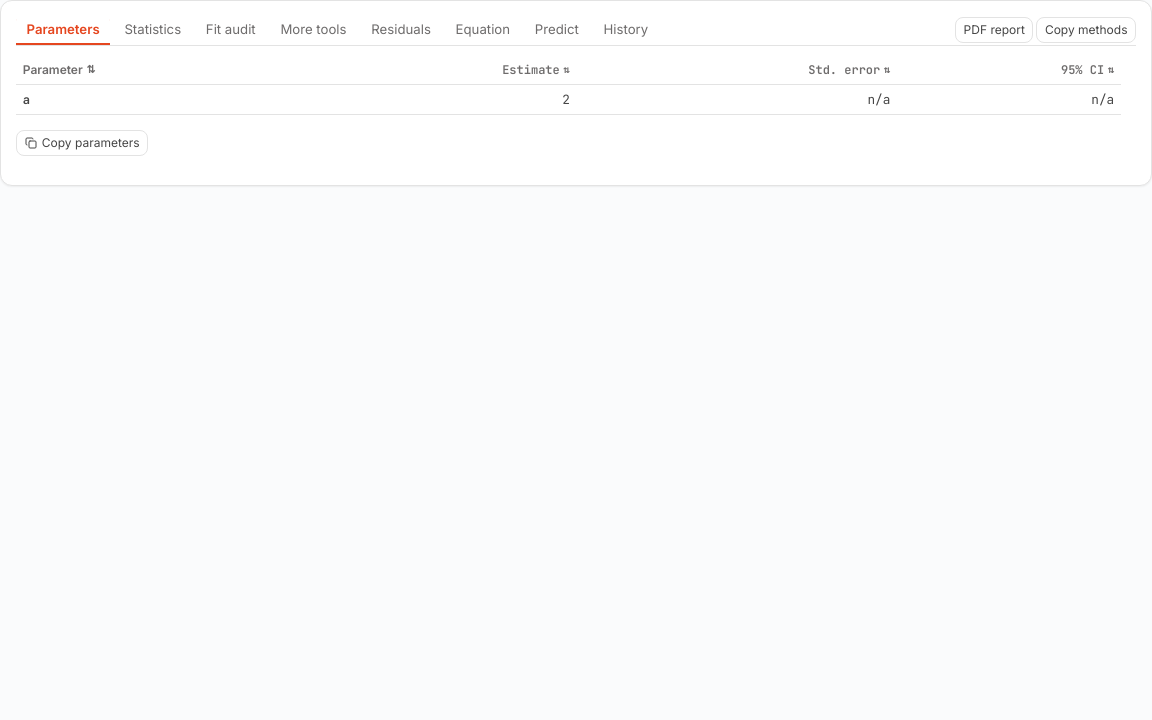
Copy methods › shows the document the same way when the browser has no clipboard at all
The image size is (1152, 720).
Click the button "Copy methods".
click(1086, 30)  # box [1036,17,1136,43]
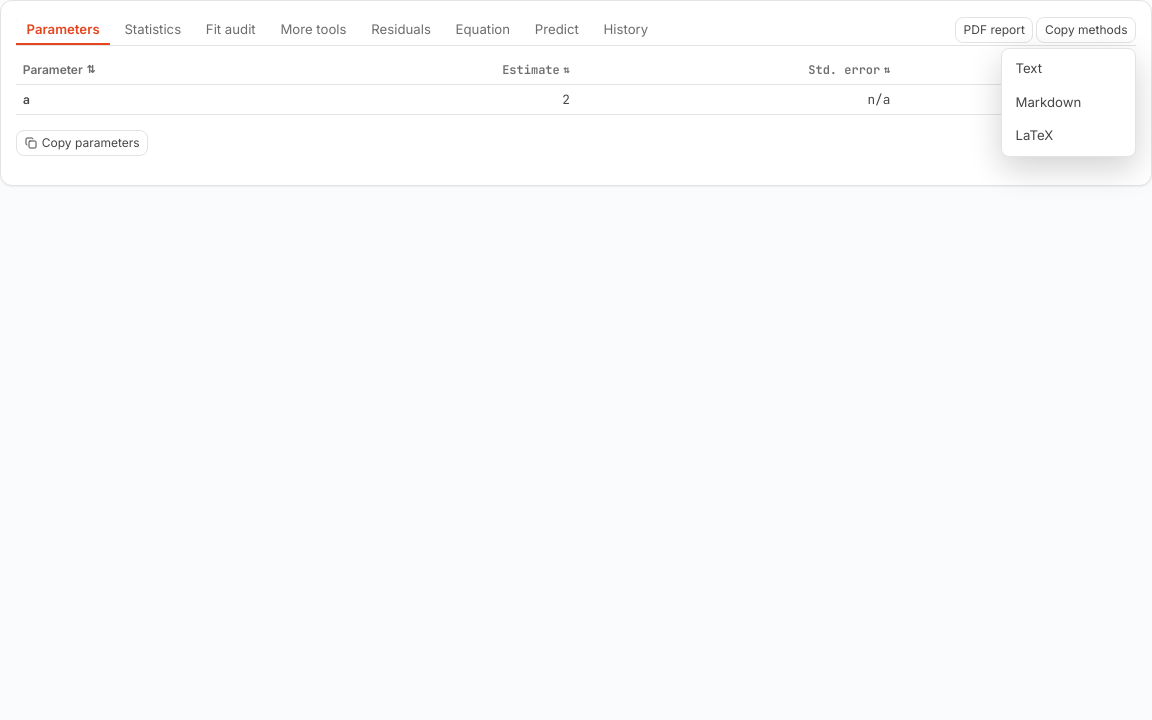
Click the button "Markdown".
click(1068, 103)  # box [1006,87,1130,118]
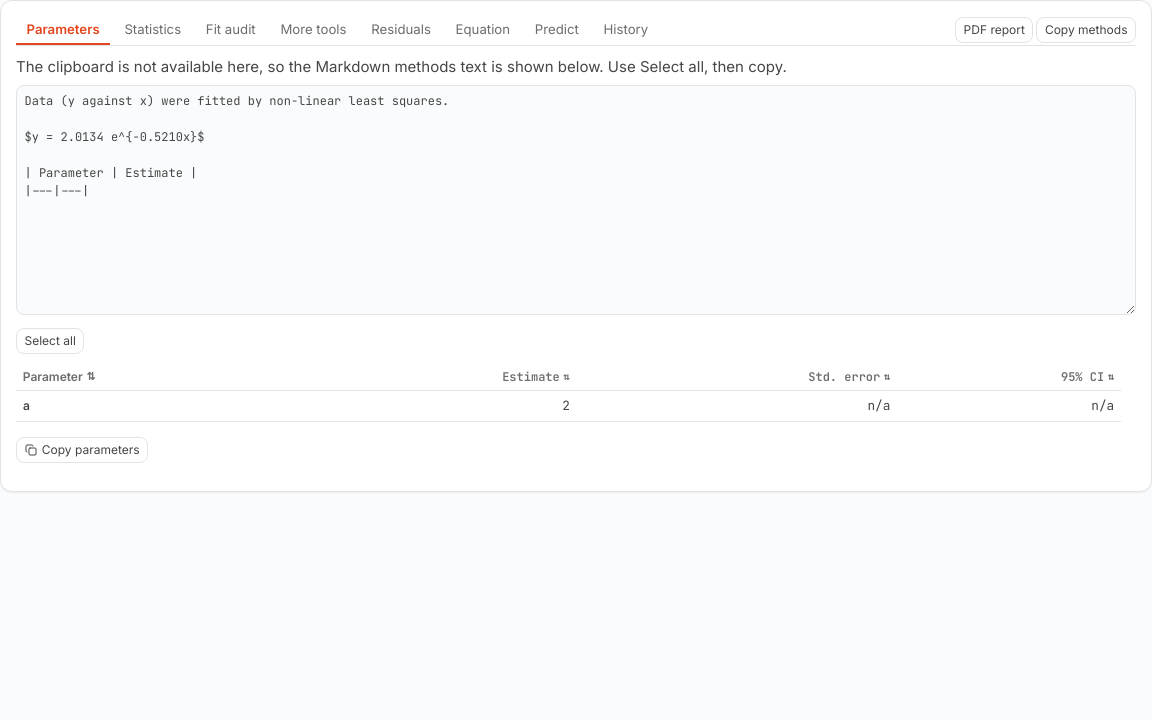
Expected: the text box named "Methods text as Markdown" is shown, [16,85,1136,315]
